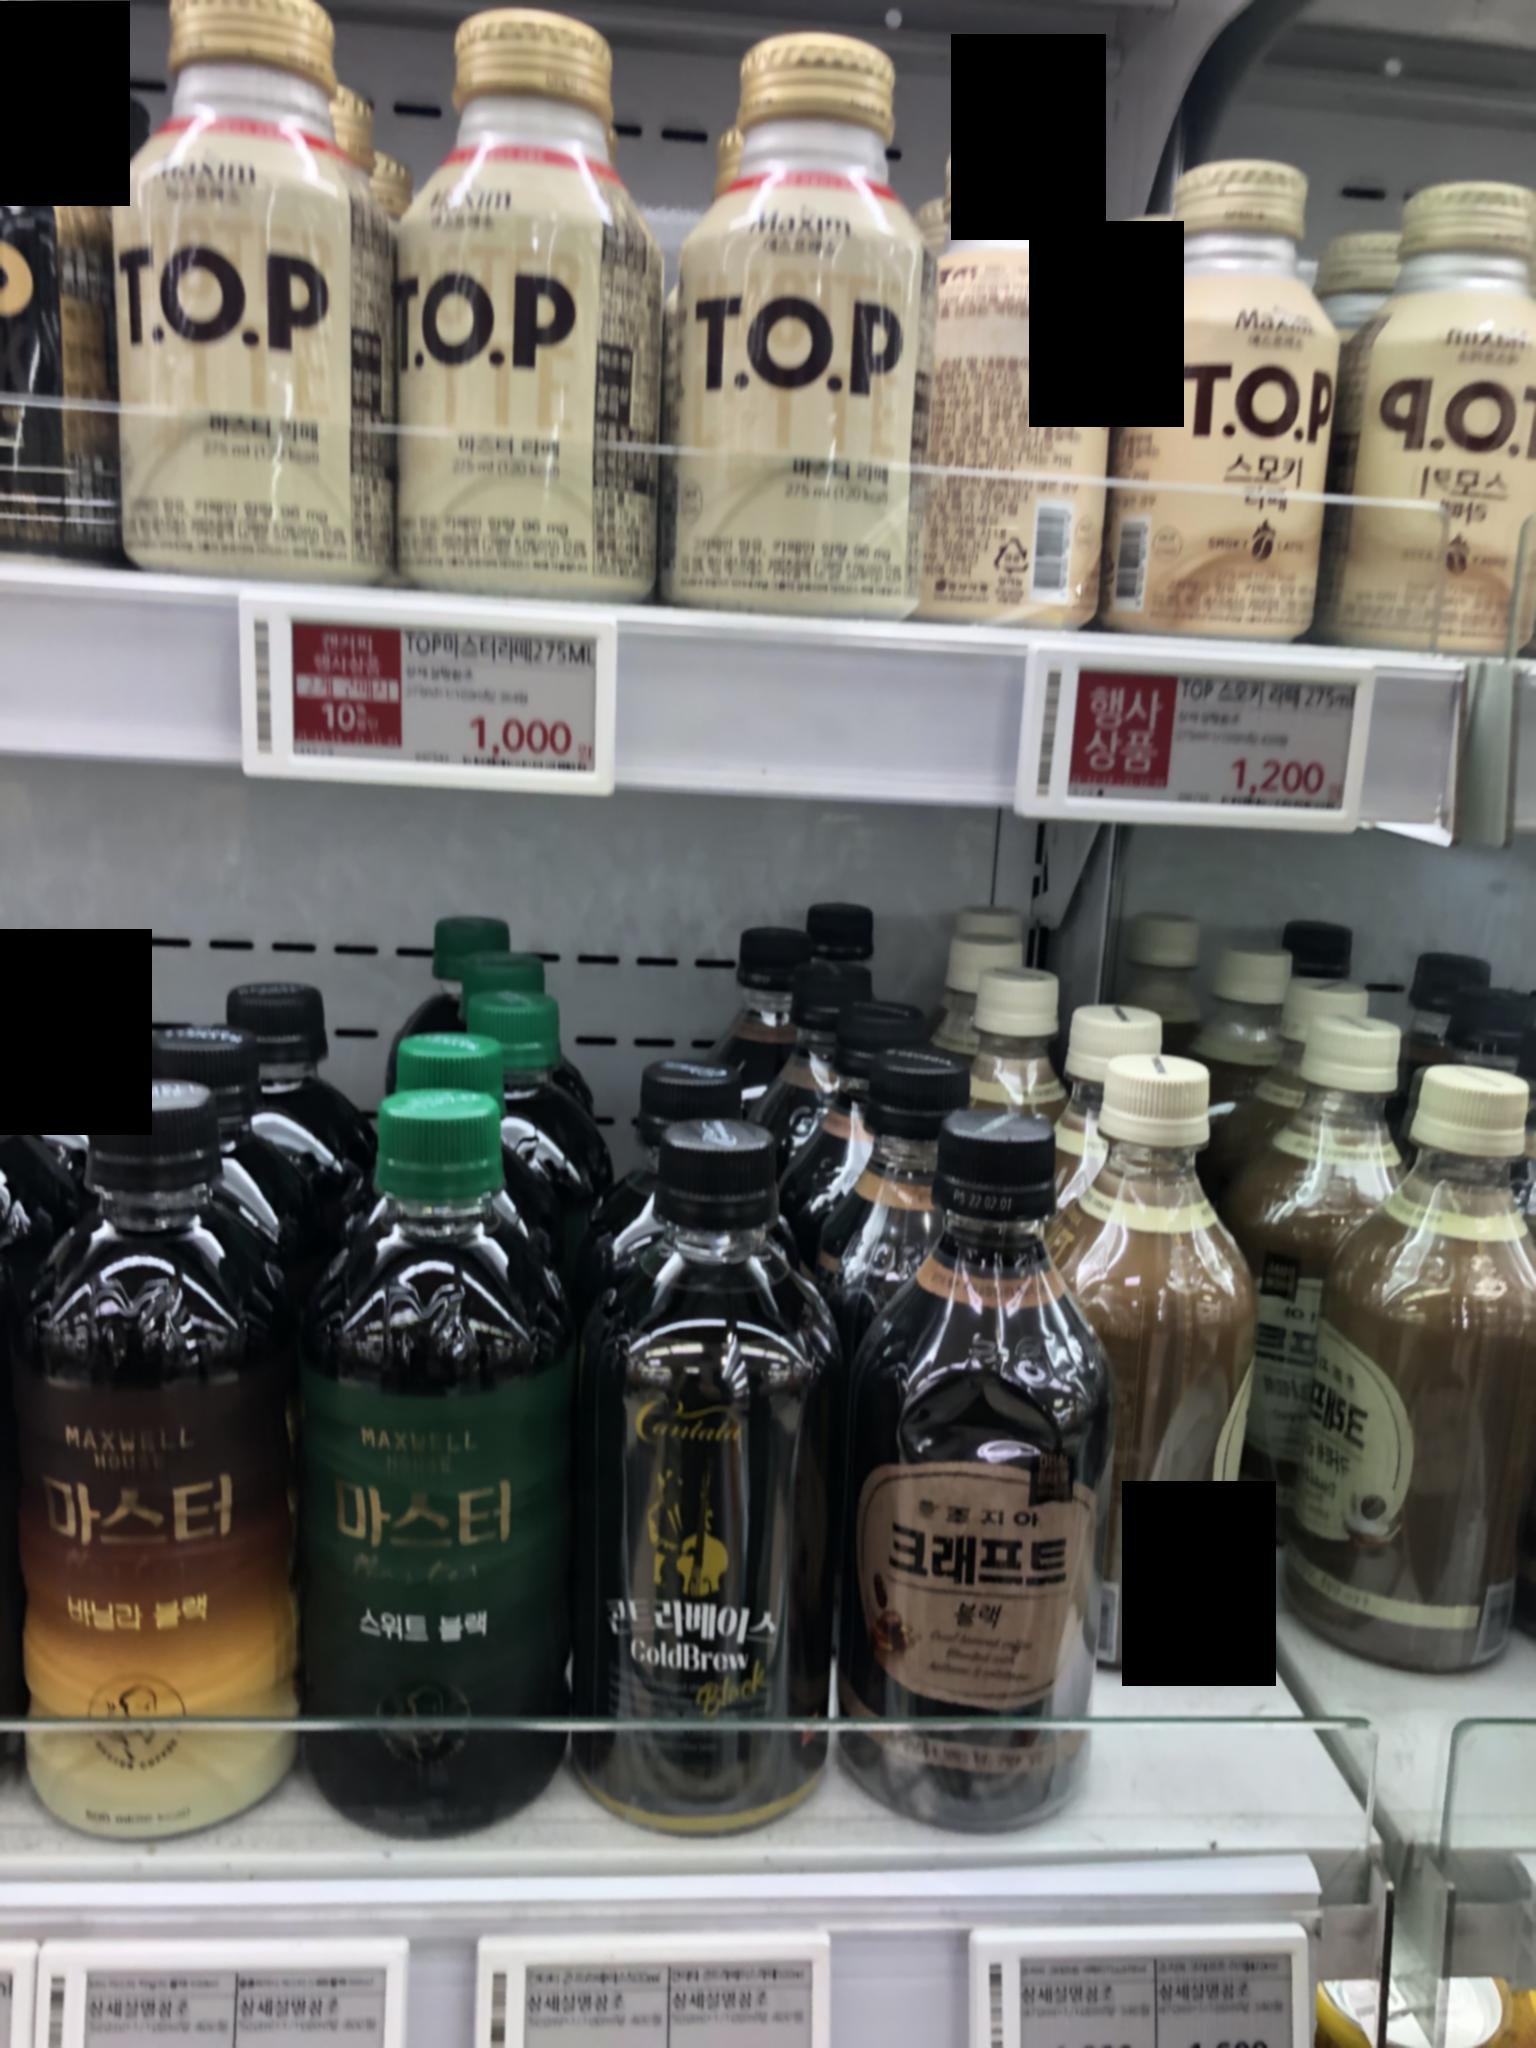georgiacraft_black: (855, 1101, 1125, 1861)
